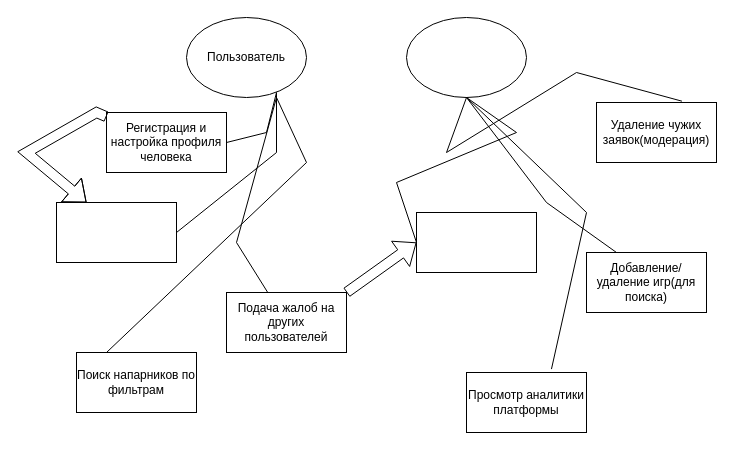
Some shapes in this 734 by 450 pixel diagram are drawn without their labels. The box of each missing label's shape, as (x1, y1, x2, y2) in pixels:
Админ: (406, 16, 526, 98)
Блокировка пользователей: (416, 212, 536, 272)
Создание или удаление своих заявок: (56, 202, 176, 262)
